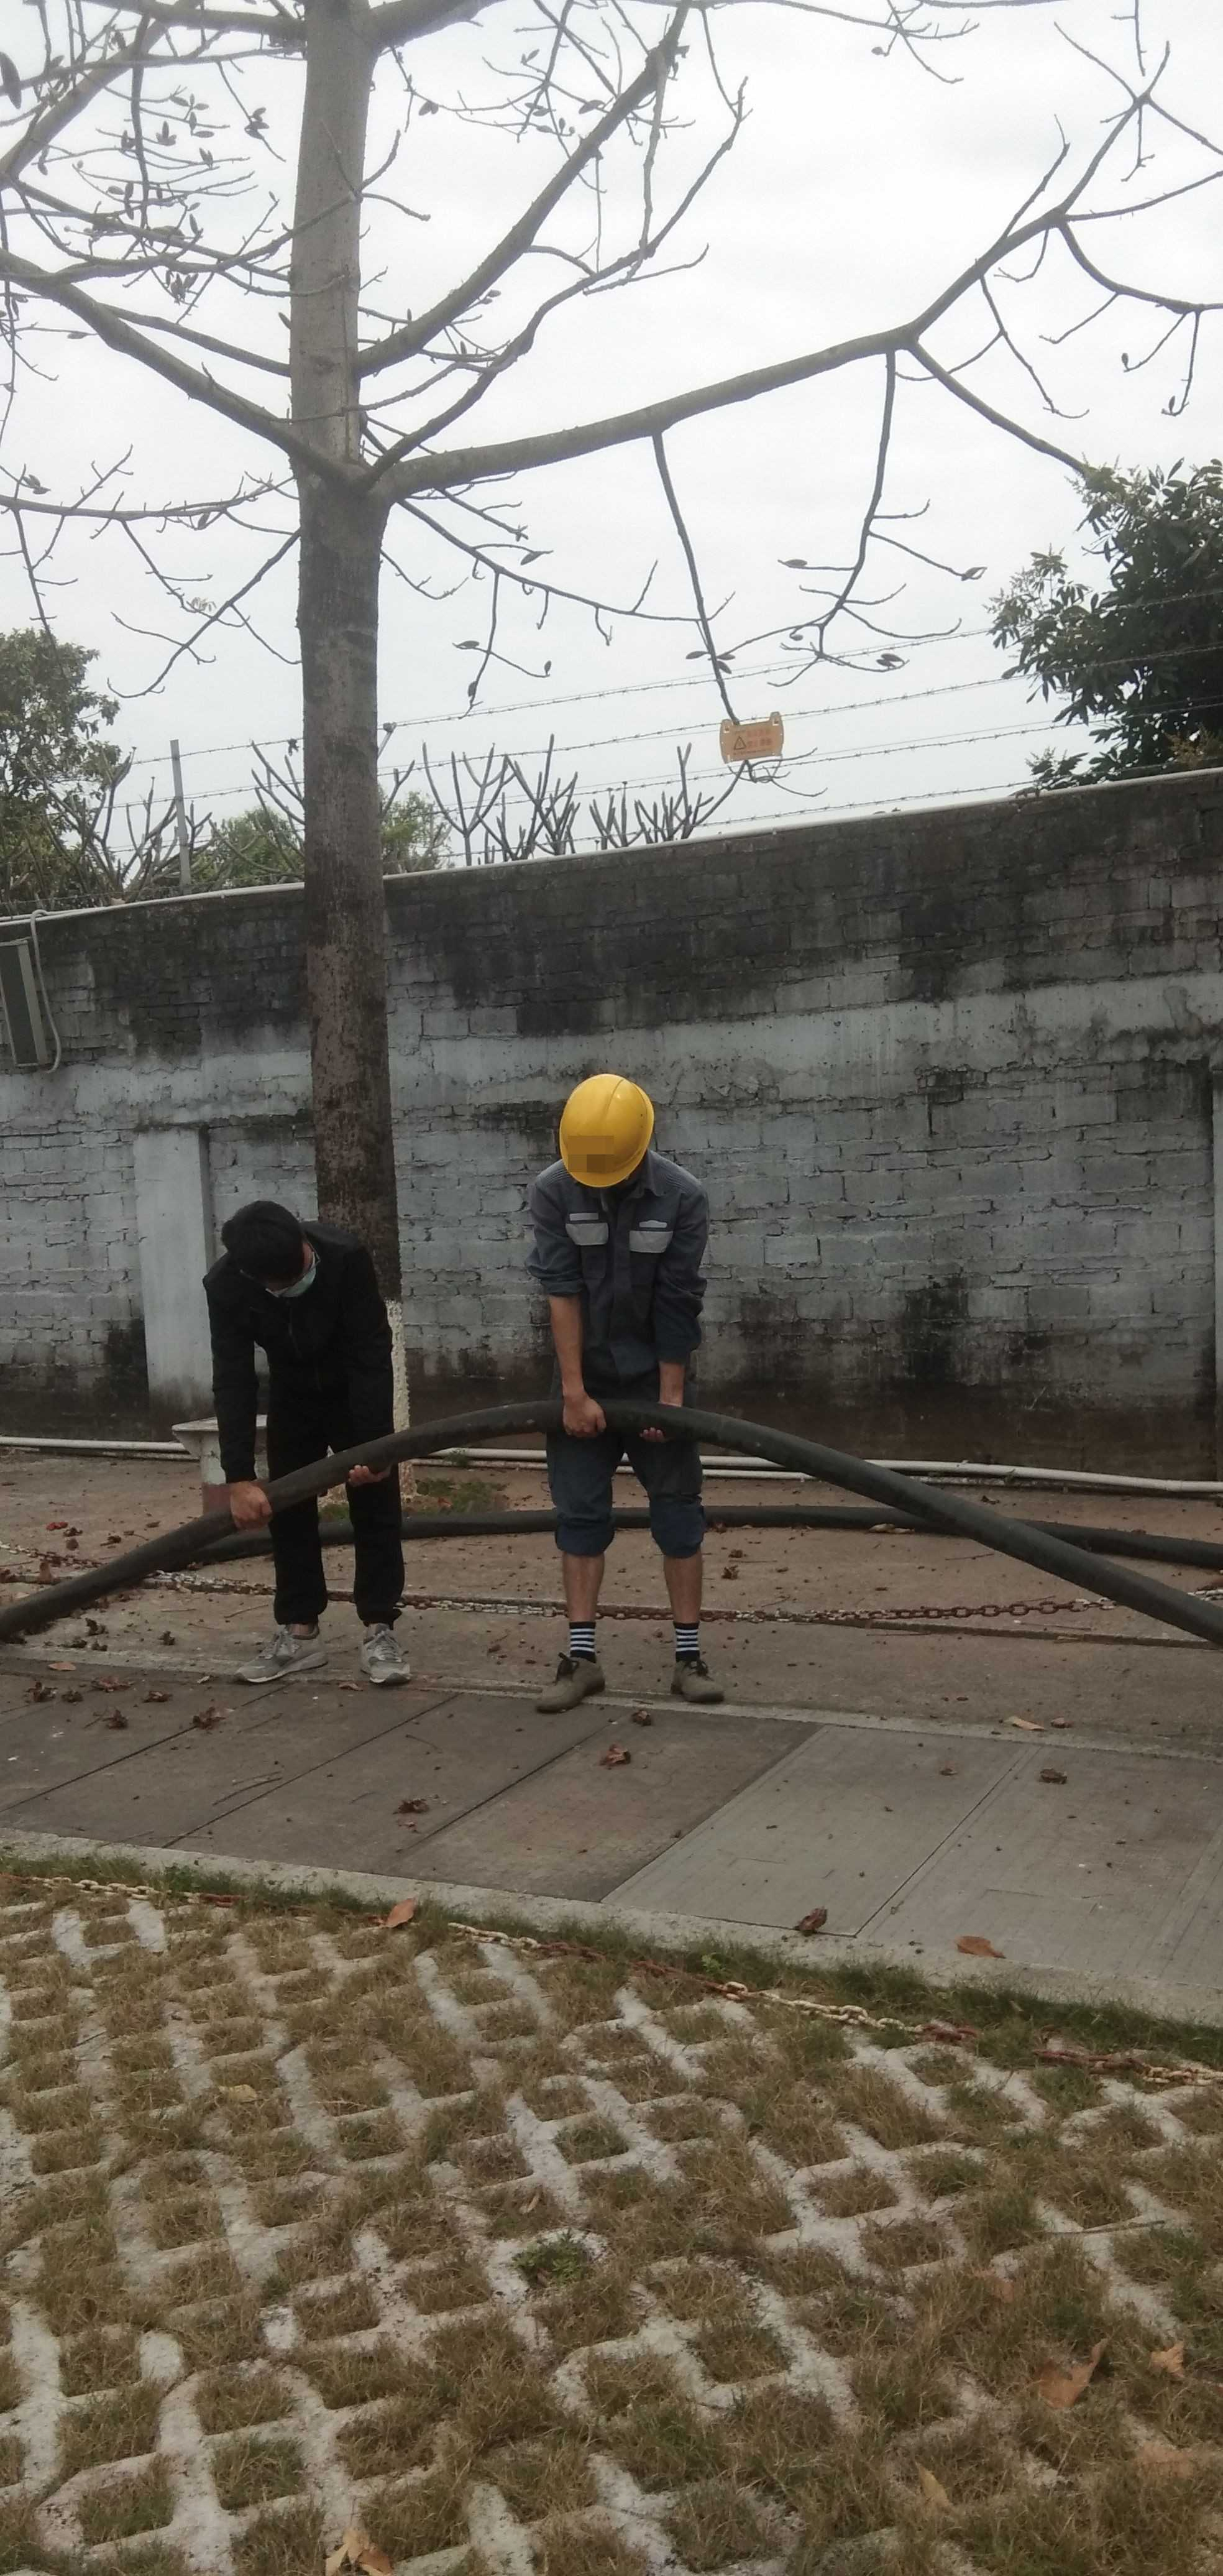downcloth: (248, 1391, 414, 1631)
downsuit: (542, 1401, 714, 1567)
upcloth: (207, 1235, 402, 1405)
upsuit: (525, 1155, 716, 1395)
wrongbottom: (547, 1513, 622, 1659), (662, 1515, 709, 1659)
wrongtop: (534, 1267, 609, 1446)
